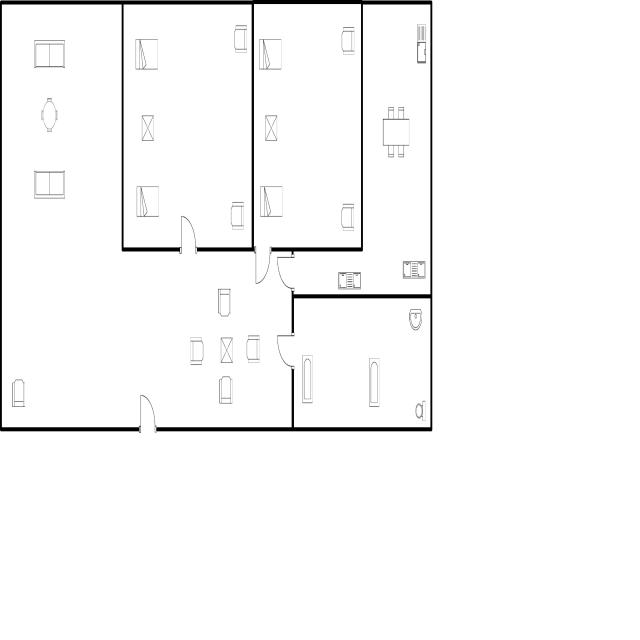armchair: (187, 332, 207, 371), (9, 374, 27, 412), (216, 373, 235, 409), (338, 198, 356, 236), (228, 196, 246, 233), (244, 331, 262, 366), (215, 284, 232, 320), (232, 20, 248, 58), (340, 21, 356, 58)
bed: (134, 180, 161, 222), (257, 33, 283, 74), (258, 182, 285, 221), (133, 33, 159, 73)
coffee_table: (264, 111, 280, 145), (140, 112, 156, 144)
dining_table: (382, 101, 412, 162)
large_sink: (413, 396, 427, 423)
large_sofa: (32, 35, 68, 75), (32, 164, 67, 202)
round_table: (38, 95, 60, 138)
sink: (415, 20, 427, 68)
small_sink: (406, 305, 425, 334)
tub: (366, 354, 382, 412), (300, 349, 314, 409)
twin_sink: (336, 268, 363, 293), (401, 257, 427, 282)
